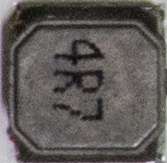Induktor: (1, 2, 163, 161)
